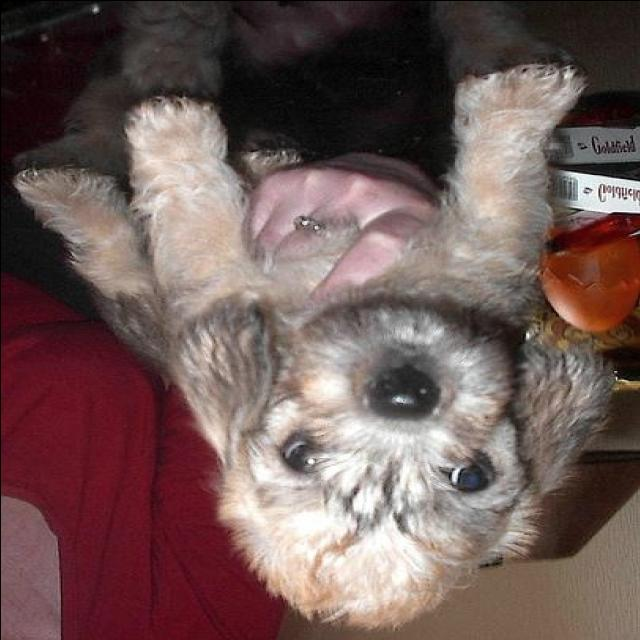dandie_dinmont: (18, 60, 606, 631)
